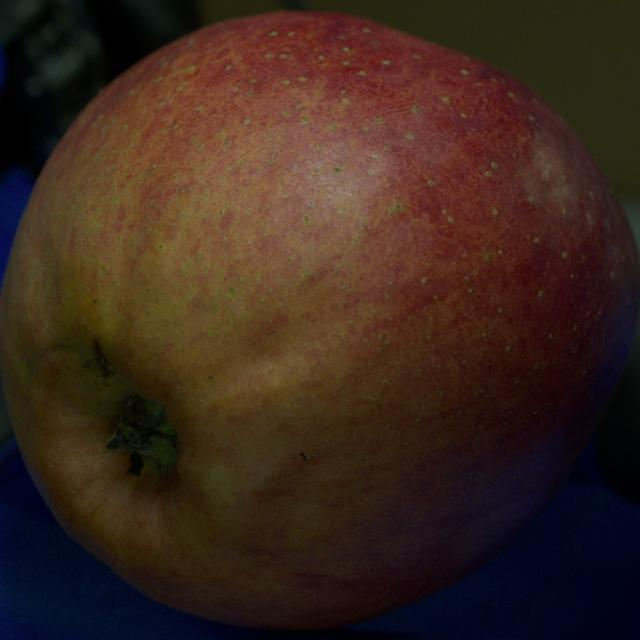apple: (0, 12, 639, 629)
pest: (301, 452, 308, 461)
scratch: (94, 339, 112, 378)
